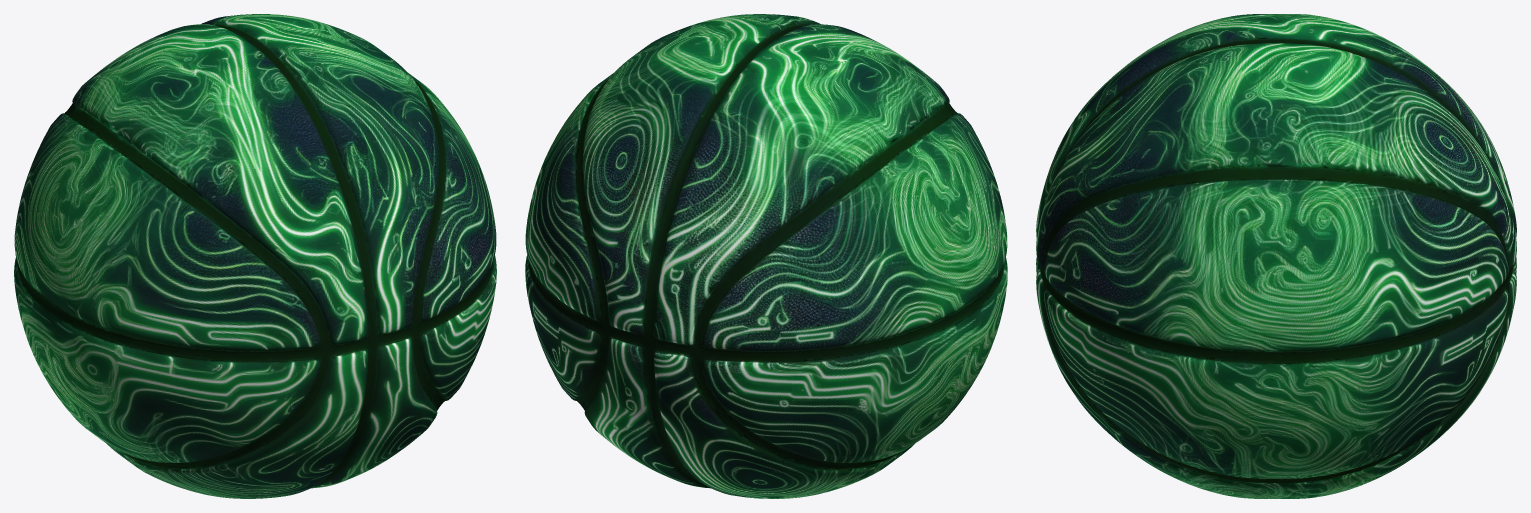
The model's file is palla_verde_compressed.glb.
3 views of the same model, side by side, from view 1: azimuth 30°, elevation 25°; view 2: azimuth 150°, elevation 25°; view 3: azimuth 270°, elevation 25° (orthographic).
Visible parts, largest first — view 1: node_0; view 2: node_0; view 3: node_0.
Boxes of the visible parts, x1,y1,x2,y2 form: node_0: (14, 14, 496, 498); node_0: (525, 14, 1007, 498); node_0: (1036, 14, 1516, 498).
Size of the model in its own units: 1.18 by 1.18 by 1.17.
Materials: 1 (1 with a texture image).
